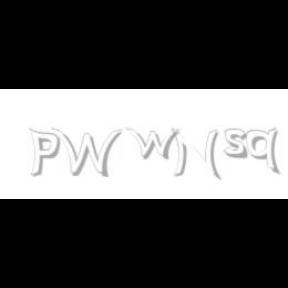N: (171, 128, 220, 180)
P: (28, 128, 60, 178)
W: (50, 128, 122, 178)
q: (246, 128, 282, 176)
s: (224, 128, 252, 160)
w: (125, 128, 184, 160)
